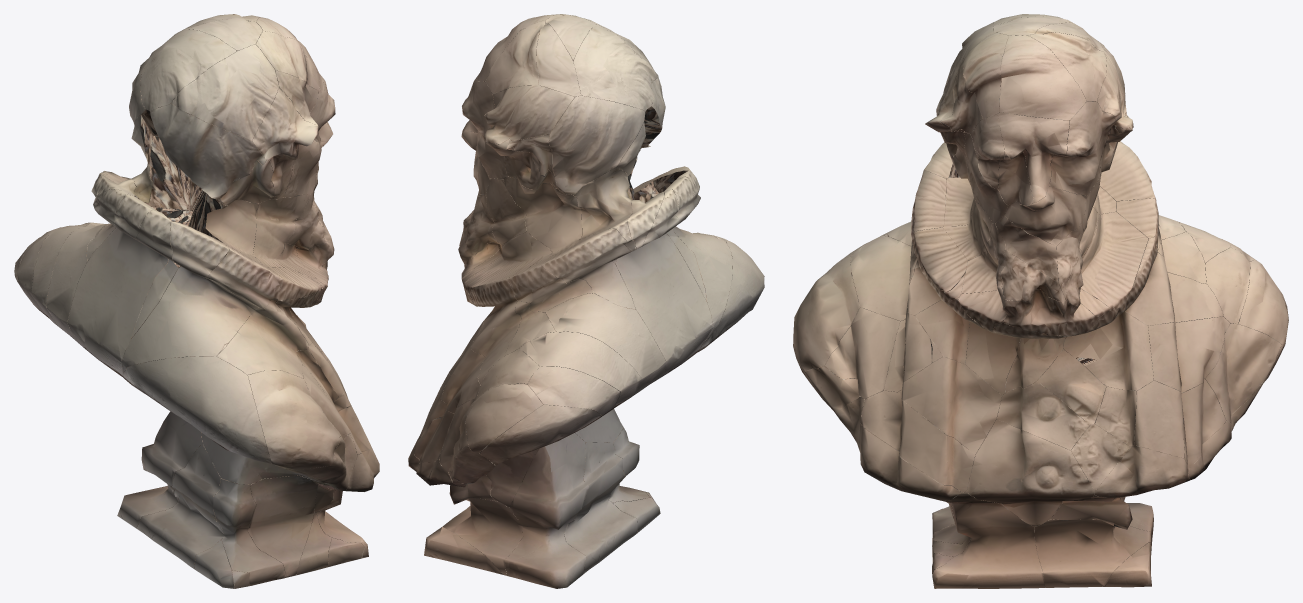
The model's file is HKI byste 2 FRACKT .fbx.
3 renders of one model, left to right at view 1: azimuth 30°, elevation 25°; view 2: azimuth 150°, elevation 25°; view 3: azimuth 270°, elevation 25°, orthographic. The views are drawn at different scales.
Parts seen in each view (by area): view 1: HKI Byste low poly.003 scatteret_cell.035, HKI Byste low poly.003 scatteret_cell.005, HKI Byste low poly.003 scatteret_cell.065, HKI Byste low poly.003 scatteret_cell.014, HKI Byste low poly.003 scatteret_cell.020, HKI Byste low poly.003 scatteret_cell.190, HKI Byste low poly.003 scatteret_cell.060, HKI Byste low poly.003 scatteret_cell.084, HKI Byste low poly.003 scatteret_cell.004, HKI Byste low poly.003 scatteret_cell.086, HKI Byste low poly.003 scatteret_cell.041, HKI Byste low poly.003 scatteret_cell.087 (+42 smaller); view 2: HKI Byste low poly.003 scatteret_cell.041, HKI Byste low poly.003 scatteret_cell.035, HKI Byste low poly.003 scatteret_cell.007, HKI Byste low poly.003 scatteret_cell.060, HKI Byste low poly.003 scatteret_cell.071, HKI Byste low poly.003 scatteret_cell.086, HKI Byste low poly.003 scatteret_cell.036, HKI Byste low poly.003 scatteret_cell.046, HKI Byste low poly.003 scatteret_cell.044, HKI Byste low poly.003 scatteret_cell.080, HKI Byste low poly.003 scatteret_cell.077, HKI Byste low poly.003 scatteret_cell.008 (+39 smaller); view 3: HKI Byste low poly.003 scatteret_cell.093, HKI Byste low poly.003 scatteret_cell.070, HKI Byste low poly.003 scatteret_cell.008, HKI Byste low poly.003 scatteret_cell.067, HKI Byste low poly.003 scatteret_cell.045, HKI Byste low poly.003 scatteret_cell.069, HKI Byste low poly.003 scatteret_cell.014, HKI Byste low poly.003 scatteret_cell.094, HKI Byste low poly.003 scatteret_cell.072, HKI Byste low poly.003 scatteret_cell.010, HKI Byste low poly.003 scatteret_cell.027, HKI Byste low poly.003 scatteret_cell.004 (+56 smaller).
Boxes of the visible parts, x1,y1,x2,y2 form: HKI Byste low poly.003 scatteret_cell.035: [67, 207, 192, 377]; HKI Byste low poly.003 scatteret_cell.005: [123, 356, 271, 463]; HKI Byste low poly.003 scatteret_cell.065: [121, 266, 259, 372]; HKI Byste low poly.003 scatteret_cell.014: [248, 370, 339, 469]; HKI Byste low poly.003 scatteret_cell.020: [171, 44, 278, 140]; HKI Byste low poly.003 scatteret_cell.190: [150, 103, 266, 199]; HKI Byste low poly.003 scatteret_cell.060: [136, 443, 224, 568]; HKI Byste low poly.003 scatteret_cell.084: [247, 475, 317, 577]; HKI Byste low poly.003 scatteret_cell.004: [216, 298, 308, 380]; HKI Byste low poly.003 scatteret_cell.086: [140, 29, 236, 111]; HKI Byste low poly.003 scatteret_cell.041: [117, 411, 202, 528]; HKI Byste low poly.003 scatteret_cell.087: [213, 478, 286, 586]; HKI Byste low poly.003 scatteret_cell.041: [504, 433, 588, 588]; HKI Byste low poly.003 scatteret_cell.035: [615, 233, 713, 375]; HKI Byste low poly.003 scatteret_cell.007: [549, 95, 645, 194]; HKI Byste low poly.003 scatteret_cell.060: [564, 442, 637, 574]; HKI Byste low poly.003 scatteret_cell.071: [545, 293, 666, 394]; HKI Byste low poly.003 scatteret_cell.086: [573, 24, 653, 111]; HKI Byste low poly.003 scatteret_cell.036: [519, 331, 641, 408]; HKI Byste low poly.003 scatteret_cell.046: [541, 228, 635, 309]; HKI Byste low poly.003 scatteret_cell.044: [484, 85, 574, 144]; HKI Byste low poly.003 scatteret_cell.080: [503, 176, 582, 256]; HKI Byste low poly.003 scatteret_cell.077: [480, 405, 602, 465]; HKI Byste low poly.003 scatteret_cell.008: [442, 497, 522, 575]; HKI Byste low poly.003 scatteret_cell.093: [966, 419, 1094, 526]; HKI Byste low poly.003 scatteret_cell.070: [932, 491, 1044, 588]; HKI Byste low poly.003 scatteret_cell.008: [1034, 519, 1151, 587]; HKI Byste low poly.003 scatteret_cell.067: [898, 356, 1002, 454]; HKI Byste low poly.003 scatteret_cell.045: [861, 390, 975, 492]; HKI Byste low poly.003 scatteret_cell.069: [1000, 35, 1086, 120]; HKI Byste low poly.003 scatteret_cell.014: [793, 256, 860, 371]; HKI Byste low poly.003 scatteret_cell.094: [1122, 237, 1223, 325]; HKI Byste low poly.003 scatteret_cell.072: [1063, 311, 1153, 391]; HKI Byste low poly.003 scatteret_cell.010: [1148, 316, 1230, 392]; HKI Byste low poly.003 scatteret_cell.027: [1080, 212, 1148, 310]; HKI Byste low poly.003 scatteret_cell.004: [850, 235, 917, 321].
Bounding box in the file's own units: 243 × 511 × 439.
Materials: 1 (1 with a texture image).
